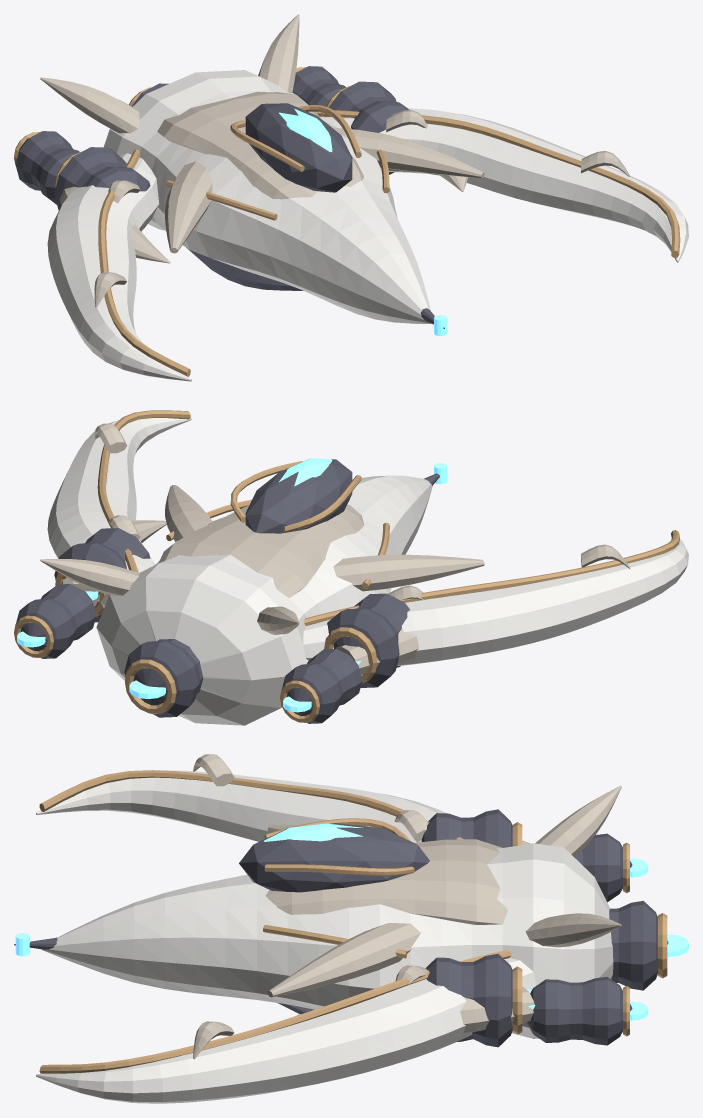
Rendered from SL_LEVIATHAN_LOD.glb.
The picture shows the model from 3 angles, top to bottom: view 1: azimuth 30°, elevation 25°; view 2: azimuth 150°, elevation 25°; view 3: azimuth 270°, elevation 25°; orthographic projection. The views are drawn at different scales.
Visible parts, largest first — view 1: armor, plate, dark, accent, energy; view 2: armor, dark, plate, accent, energy; view 3: armor, dark, plate, accent, energy.
Boxes of the visible parts, bbox=[...] form: armor: bbox=[47, 70, 688, 381]; plate: bbox=[40, 14, 630, 307]; dark: bbox=[16, 66, 444, 328]; accent: bbox=[14, 67, 680, 376]; energy: bbox=[279, 108, 447, 336]; armor: bbox=[47, 417, 688, 725]; dark: bbox=[16, 459, 439, 723]; plate: bbox=[40, 423, 630, 674]; accent: bbox=[14, 410, 679, 722]; energy: bbox=[17, 458, 447, 712]; armor: bbox=[36, 770, 613, 1103]; dark: bbox=[14, 809, 668, 1047]; plate: bbox=[193, 754, 621, 1059]; accent: bbox=[39, 770, 667, 1073]; energy: bbox=[15, 823, 688, 1020].
Bounding box in the file's own units: 6.55 × 1.99 × 6.01.
